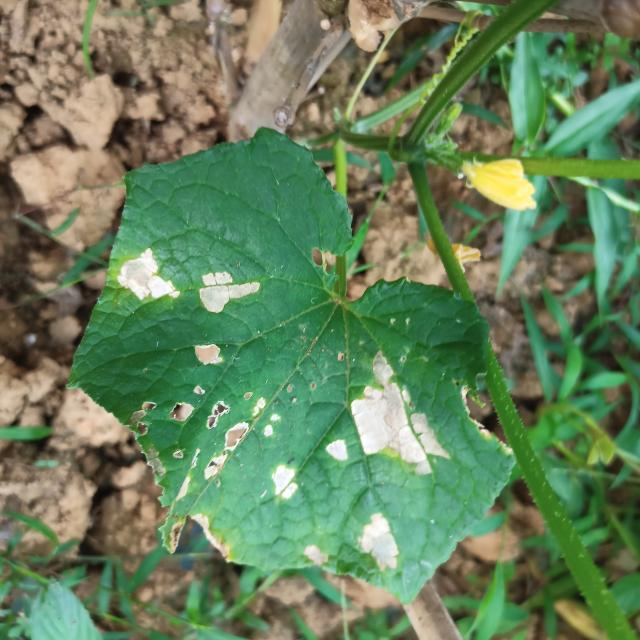disease_cucumber: (348, 357, 446, 477), (198, 389, 286, 484), (117, 245, 182, 310), (197, 265, 264, 318), (356, 510, 409, 570), (268, 459, 305, 503), (325, 434, 349, 469), (302, 542, 330, 568)
